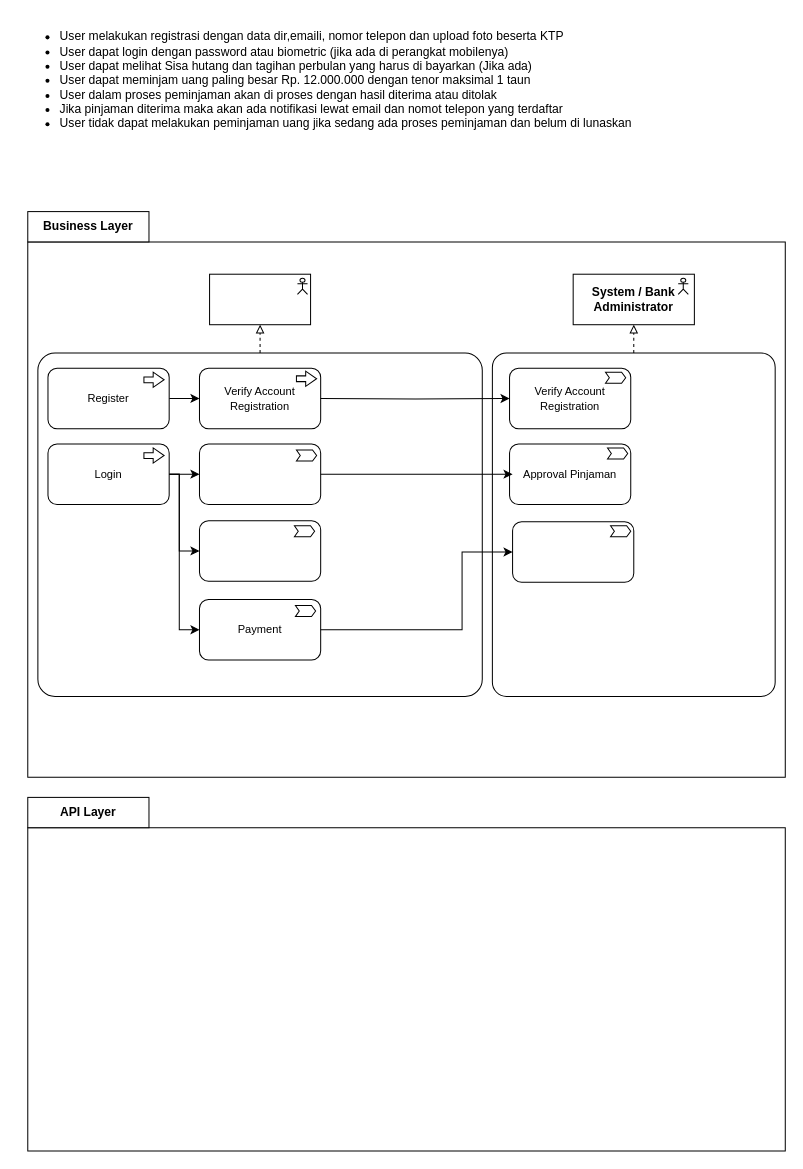
This 803x1169 diagram has some shape labels left out. Here are the shapes that lost their labels. From the top down, the centre of each, then its label:
At pixel 260 299: "User".
At pixel 259 473: "Pengajuan Pinjaman".
At pixel 259 550: "Lihat Outstanding dan History Tagihan".
At pixel 573 551: "Verify Payment".
